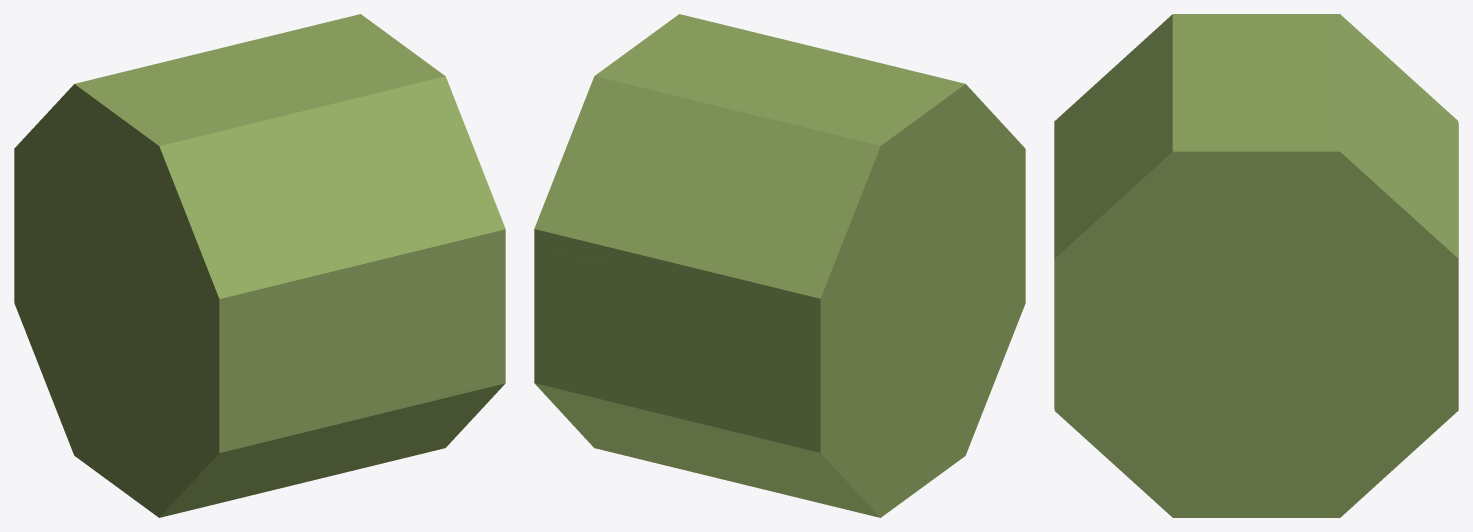
File: Breakable Rock.fbx
3 renders of one model, left to right at view 1: azimuth 30°, elevation 25°; view 2: azimuth 150°, elevation 25°; view 3: azimuth 270°, elevation 25°, orthographic.
Visible parts, largest first — view 1: shard5, shard2, shard1, shard3, shard4; view 2: shard1, shard4, shard5, shard2; view 3: shard3, shard2, shard1, shard4, shard5.
Part boxes in pixels (box(x1,y1,x2,y2)): shard5: box(46, 235, 480, 517); shard2: box(90, 50, 488, 331); shard1: box(14, 14, 409, 289); shard3: box(369, 186, 505, 409); shard4: box(14, 281, 147, 382); shard1: box(534, 40, 971, 439); shard4: box(534, 240, 953, 486); shard5: box(550, 148, 1025, 517); shard2: box(644, 14, 1024, 320); shard3: box(1054, 180, 1426, 455); shard2: box(1056, 14, 1399, 261); shard1: box(1226, 14, 1458, 269); shard4: box(1141, 244, 1458, 438); shard5: box(1054, 120, 1426, 517).
Bounding box in the file's own units: 1.97 × 2.45 × 2.45.
